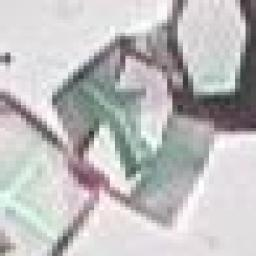crystals: (38, 21, 215, 239)
